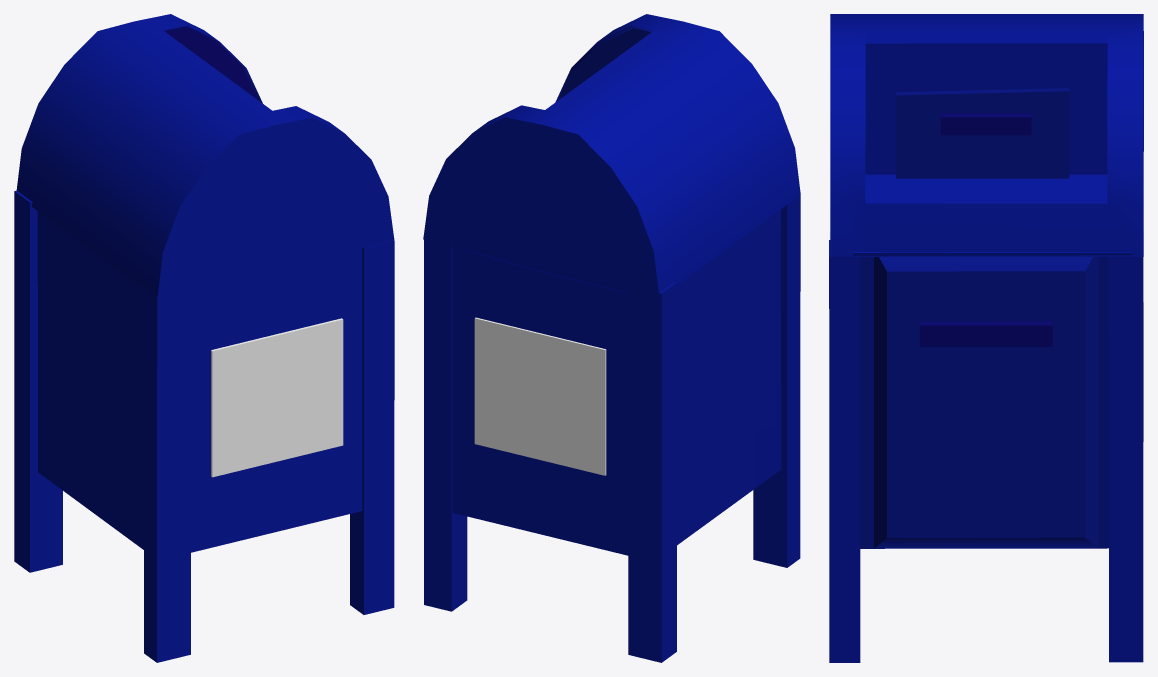
Rendered from mail.obj.
3 views of the same model, side by side, from view 1: azimuth 30°, elevation 25°; view 2: azimuth 150°, elevation 25°; view 3: azimuth 270°, elevation 25° (orthographic). The views are drawn at different scales.
Visible parts, largest first — view 1: pCube16; view 2: pCube16; view 3: pCube16.
Part boxes in pixels (x1,y1,x2,y2): pCube16: (14, 14, 394, 662); pCube16: (423, 14, 800, 662); pCube16: (829, 14, 1143, 662).
Bounding box in the file's own units: 3.57 × 6.98 × 3.52.
